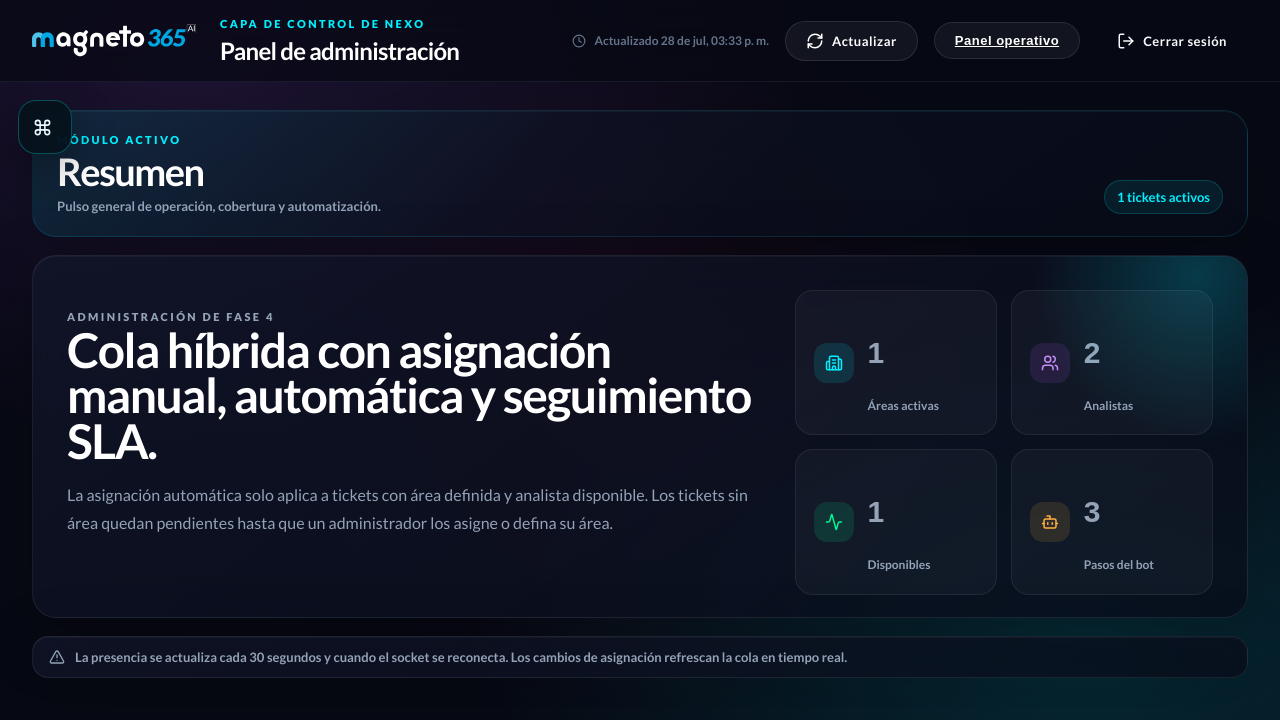
Test: AdminPanel › selects the Cola y SLA module from the control map
Click the button named "abrir comandos".
click(45, 127)  # box x1=18 y1=100 x2=72 y2=154
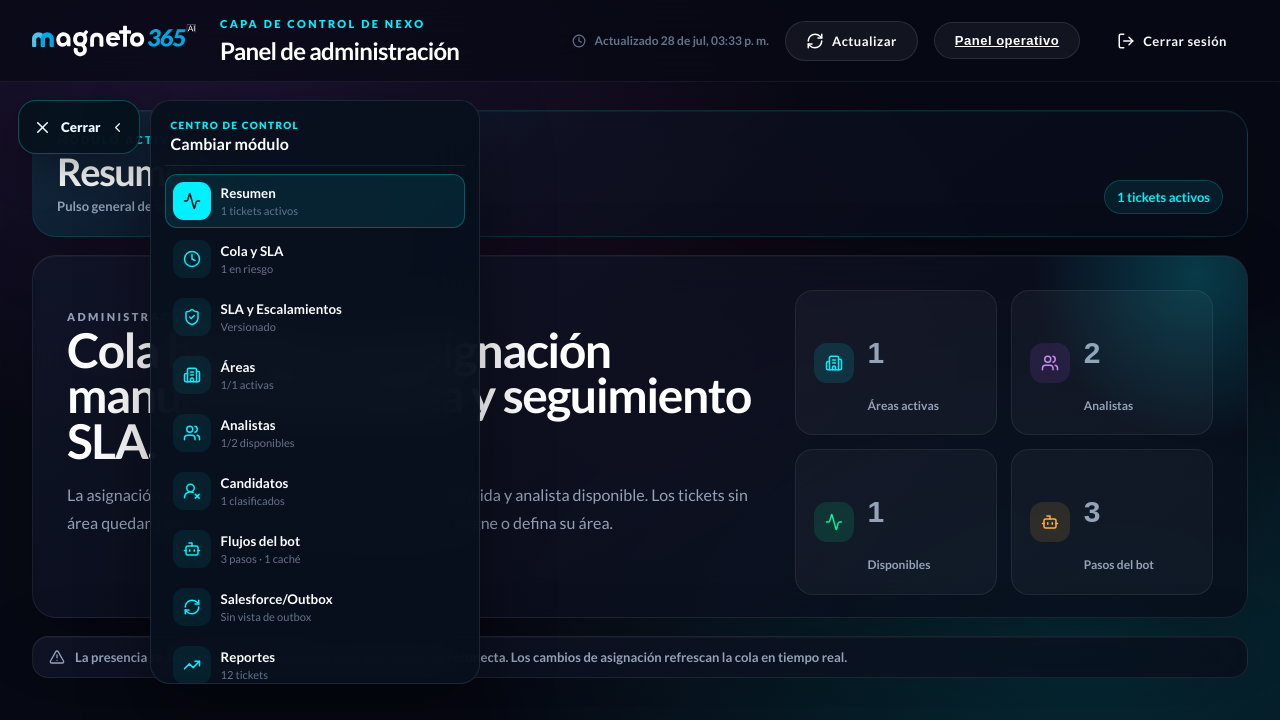
Click the button "Cola y SLA 1 en riesgo".
click(192, 259)  # box x1=165 y1=232 x2=465 y2=286
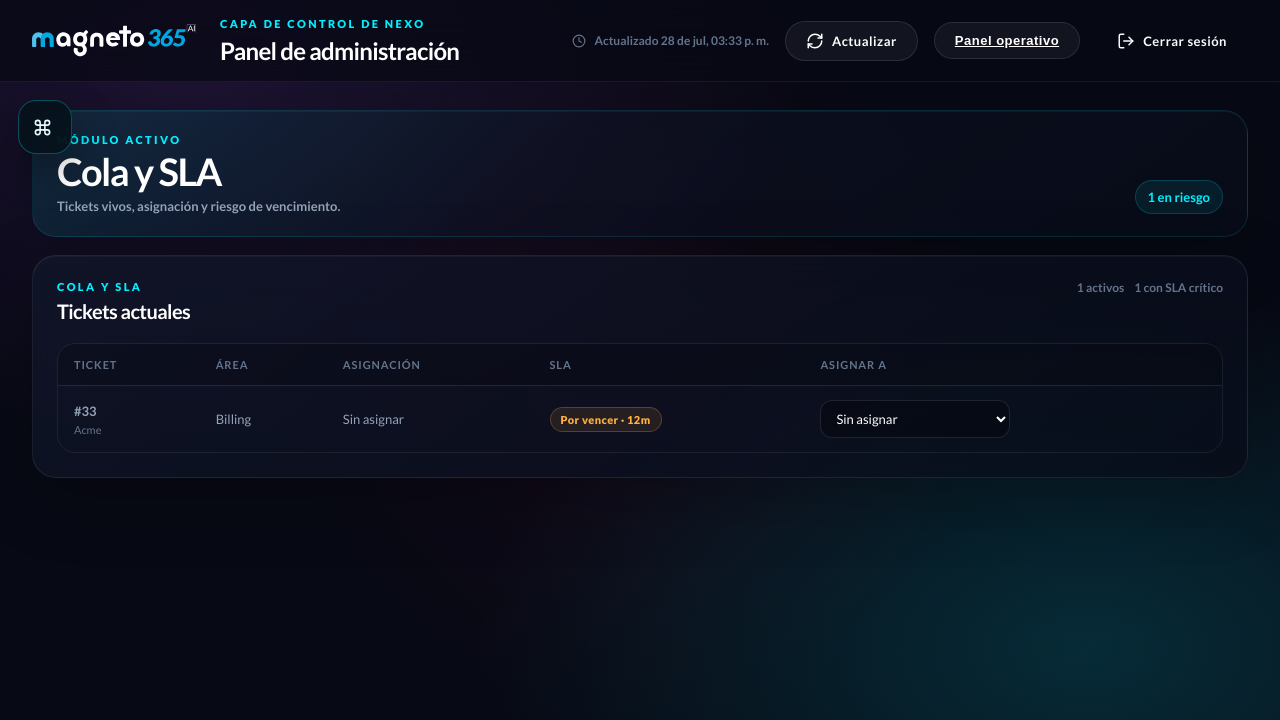
Result: the number of elements with class "admin-section-anchor" is 1 at x1=32 y1=255 x2=1248 y2=478
